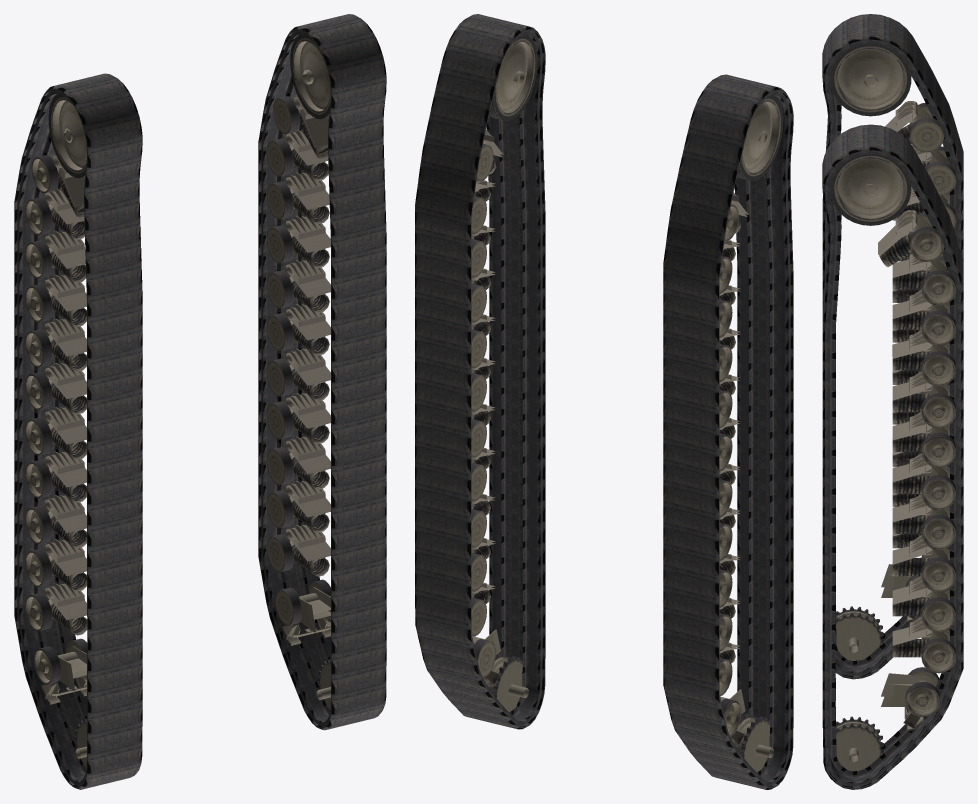
Rendered from Chassis.glb.
3 views of the same model, side by side, from view 1: azimuth 30°, elevation 25°; view 2: azimuth 150°, elevation 25°; view 3: azimuth 270°, elevation 25° (orthographic). The views are drawn at different scales.
Parts seen in each view (by area): view 1: set_1_group_0, set_0_group_0, set_5_group_0, set_3_group_0, set_2_group_0, set_4_group_0; view 2: set_1_group_0, set_0_group_0, set_5_group_0, set_3_group_0; view 3: set_5_group_0, set_0_group_0, set_3_group_0, set_1_group_0, set_4_group_0, set_2_group_0.
Boxes of the visible parts, box(x1,y1,x2,y2) form: set_1_group_0: box(14, 73, 142, 789); set_0_group_0: box(258, 14, 386, 730); set_5_group_0: box(266, 34, 330, 709); set_3_group_0: box(25, 94, 87, 768); set_2_group_0: box(44, 158, 86, 691); set_4_group_0: box(285, 99, 328, 180); set_1_group_0: box(663, 74, 793, 789); set_0_group_0: box(415, 14, 545, 729); set_5_group_0: box(471, 34, 537, 711); set_3_group_0: box(719, 95, 783, 772); set_5_group_0: box(830, 154, 955, 771); set_0_group_0: box(822, 124, 963, 789); set_3_group_0: box(830, 43, 955, 660); set_1_group_0: box(822, 14, 963, 679); set_4_group_0: box(879, 215, 947, 289); set_2_group_0: box(881, 105, 947, 597).
Bounding box in the file's own units: 3.28 × 7.25 × 1.44.
Materials: 6 (6 with a texture image).
